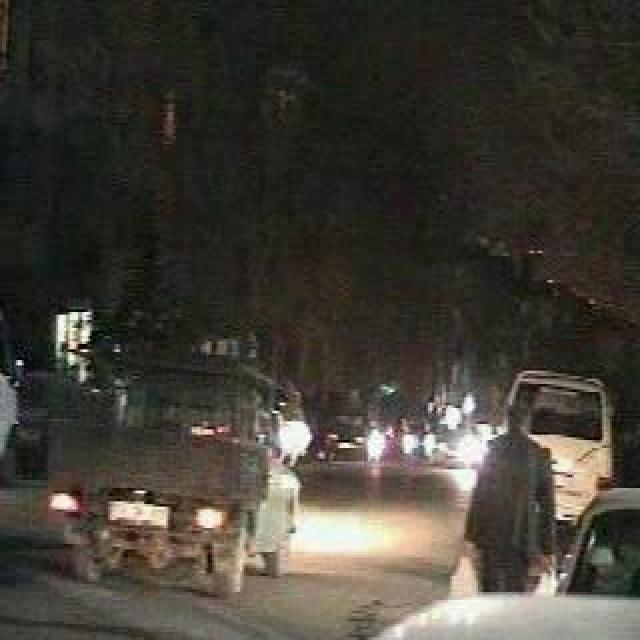other: (372, 400, 498, 468), (306, 510, 396, 560), (270, 402, 320, 461), (42, 472, 86, 525)
